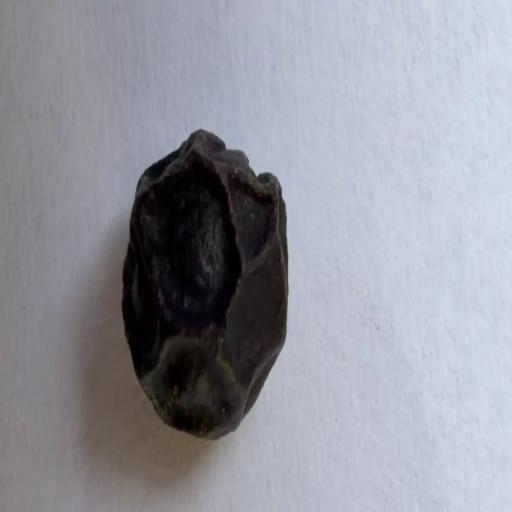Black_pepper: (100, 84, 306, 446)
